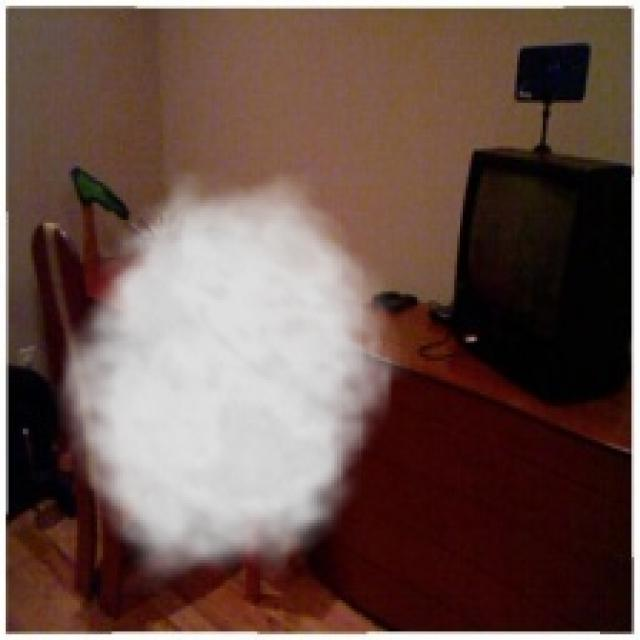Smoke: (49, 168, 412, 594)
